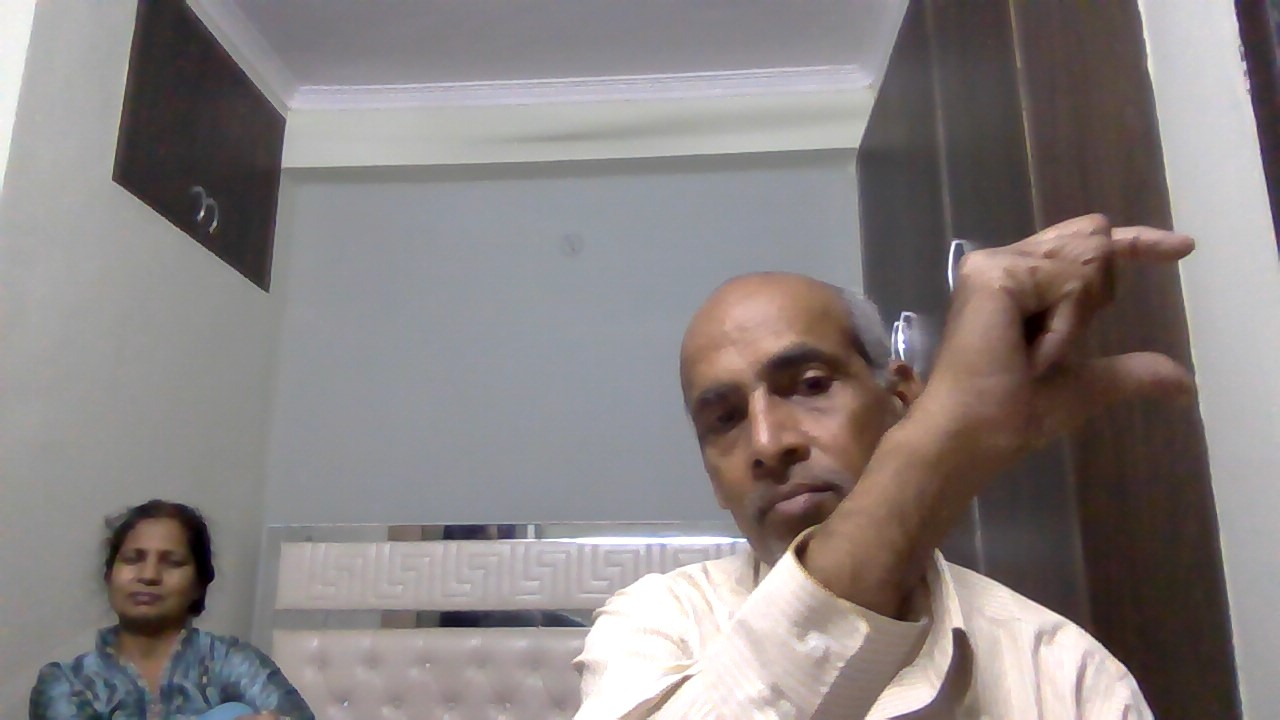Paste: (914, 209, 1215, 479)
